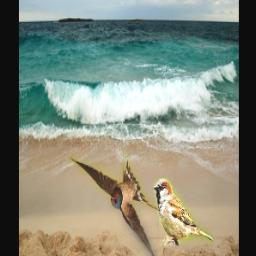Sparrow: (153, 179, 213, 247)
Swallow: (70, 149, 159, 256)
